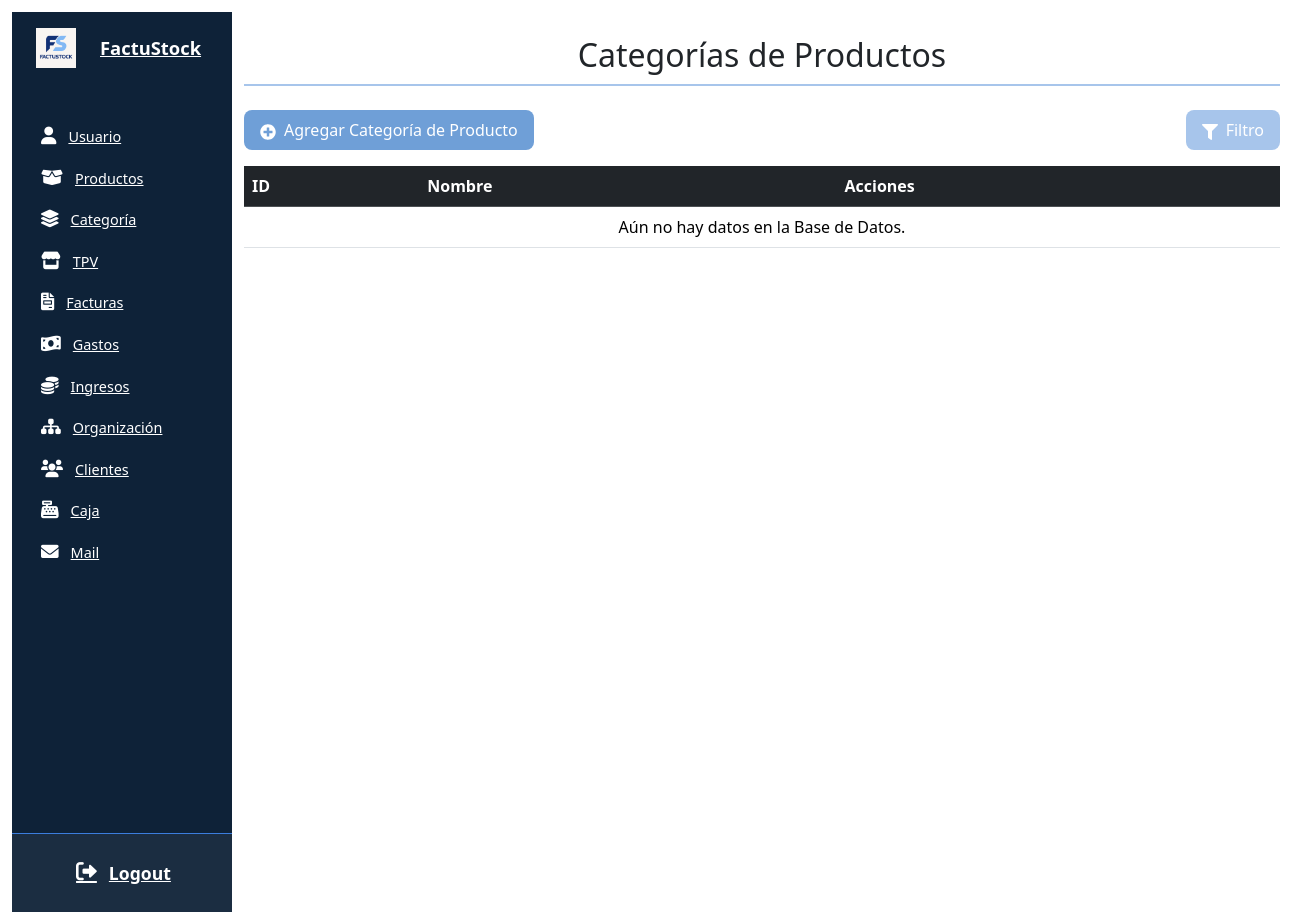
CategoryProducts › crea una categoría nueva
This screenshot has width=1292, height=912.
Click the button "Agregar Categoría de Producto" at (389, 130), box [244, 110, 534, 150]
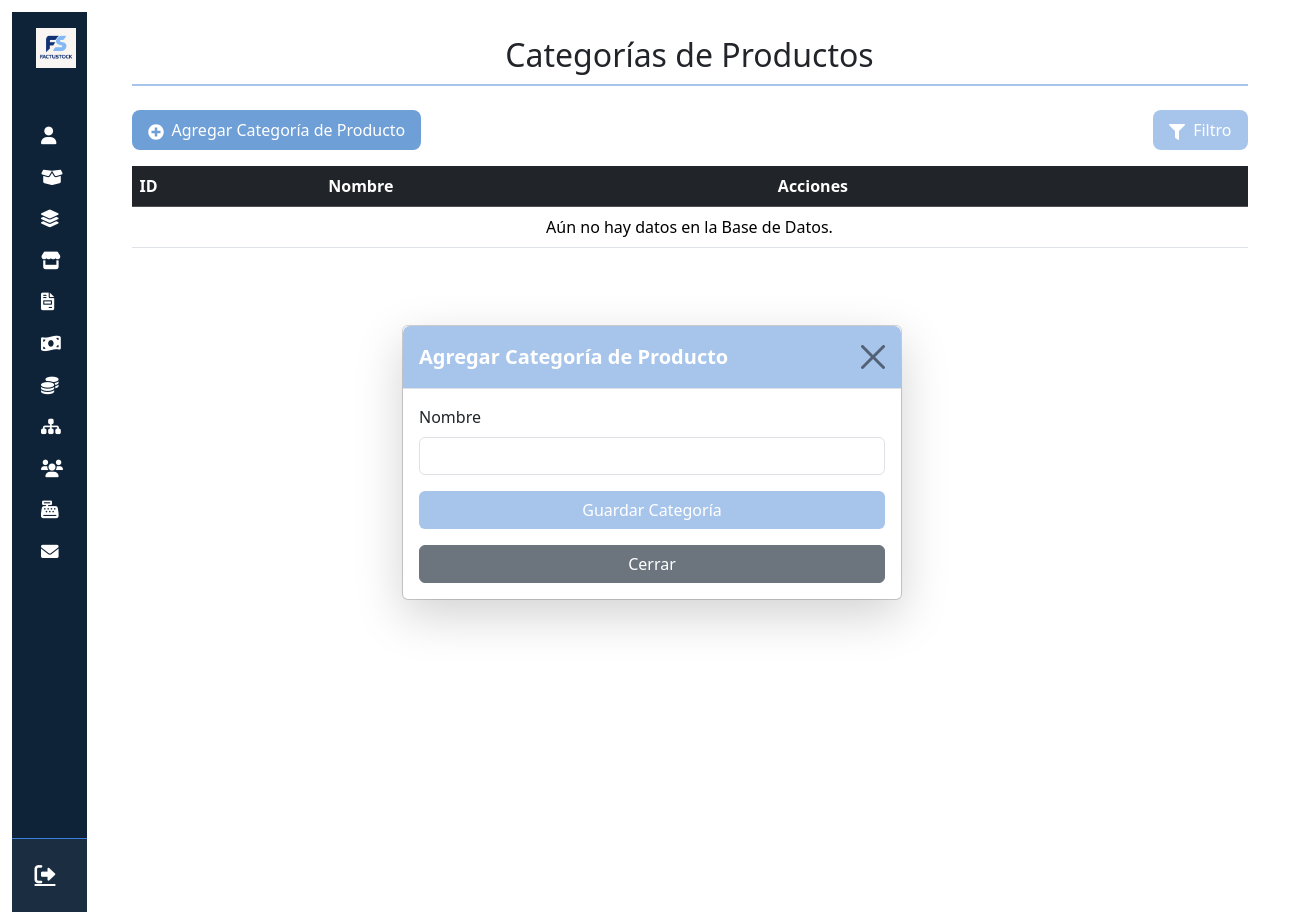
Type "Snacks" into the field labelled "Nombre" at (652, 456), box [419, 436, 885, 474]
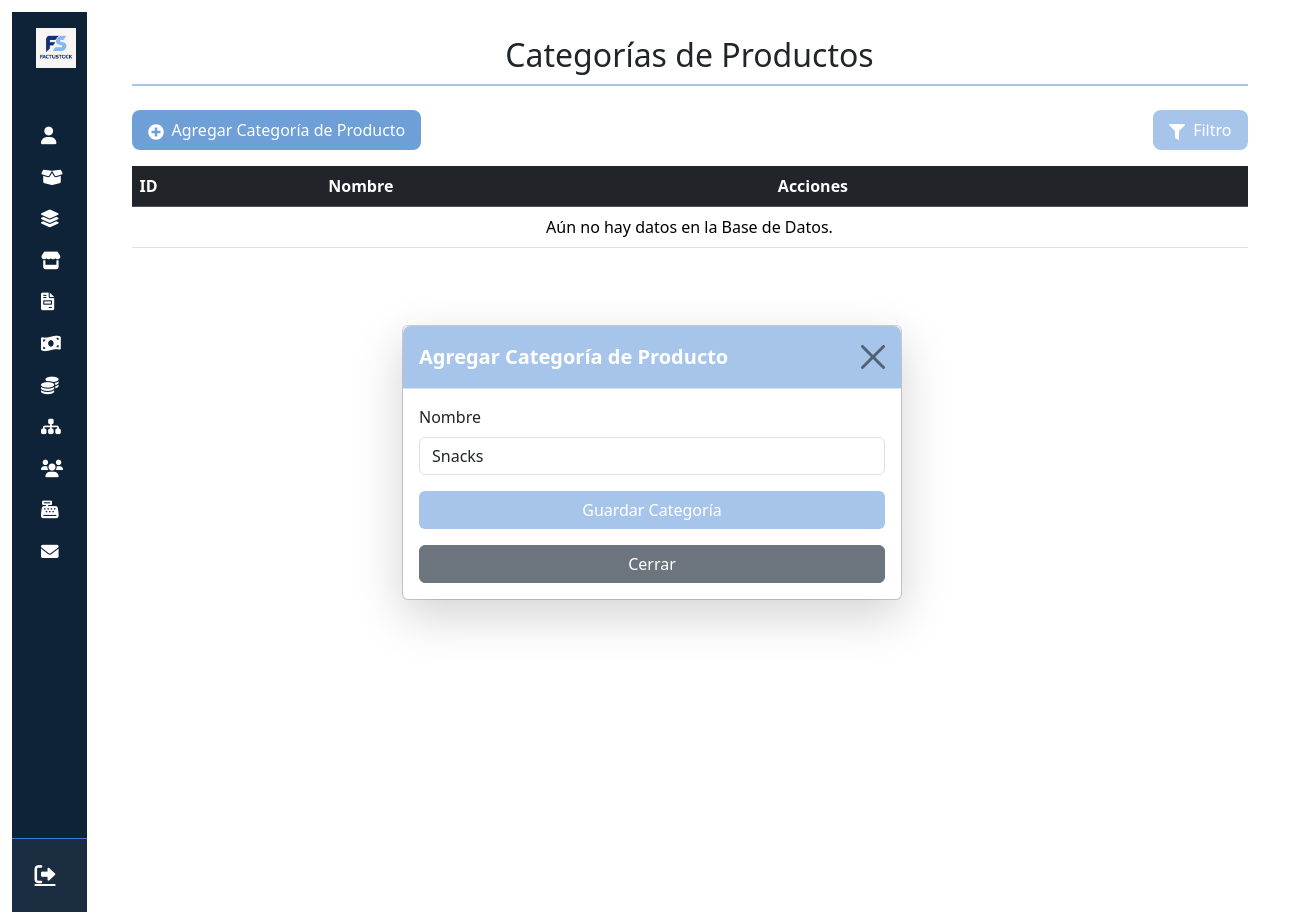
Click the button "Guardar Categoría" at (652, 510), box [419, 490, 885, 528]
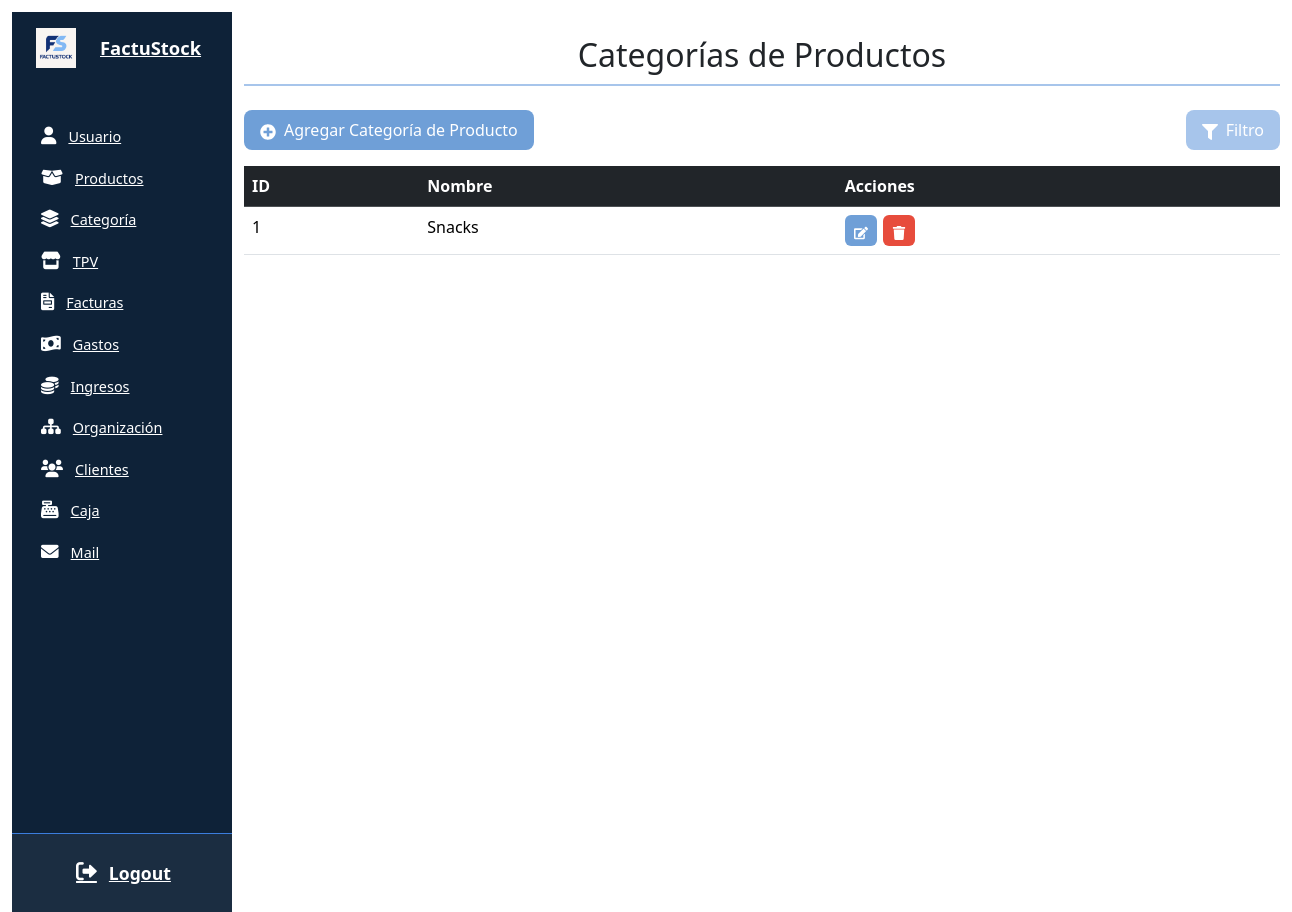
Now the text "Snacks" is shown, box [419, 207, 837, 255]
